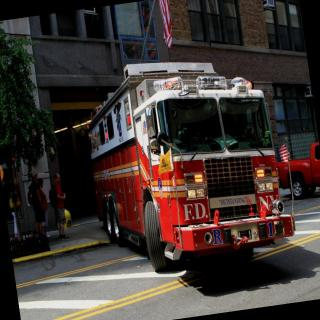Fire_truck: (77, 43, 301, 280)
